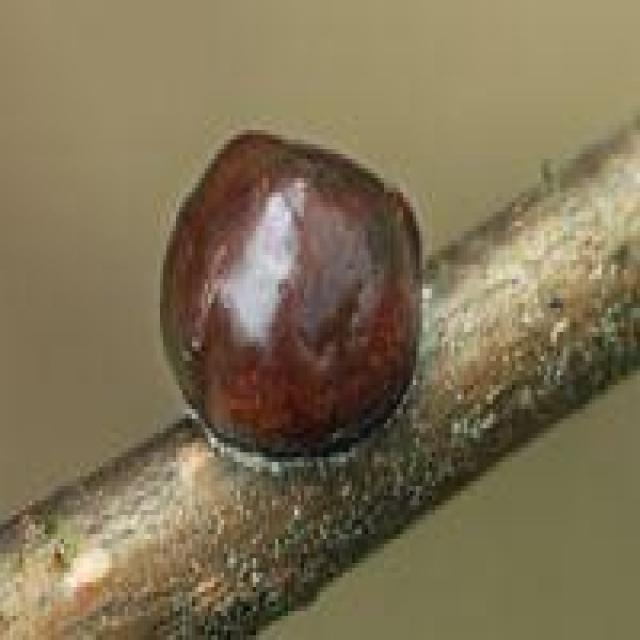Black Scale: (166, 130, 416, 472)
